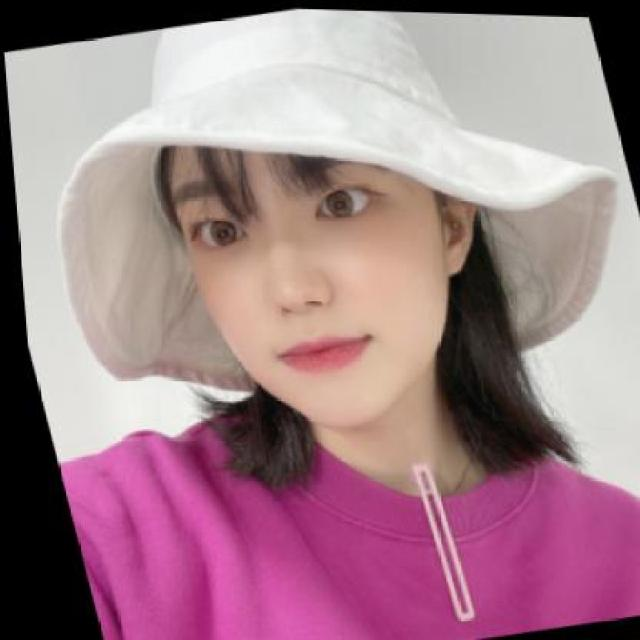hat: (51, 7, 616, 390)
